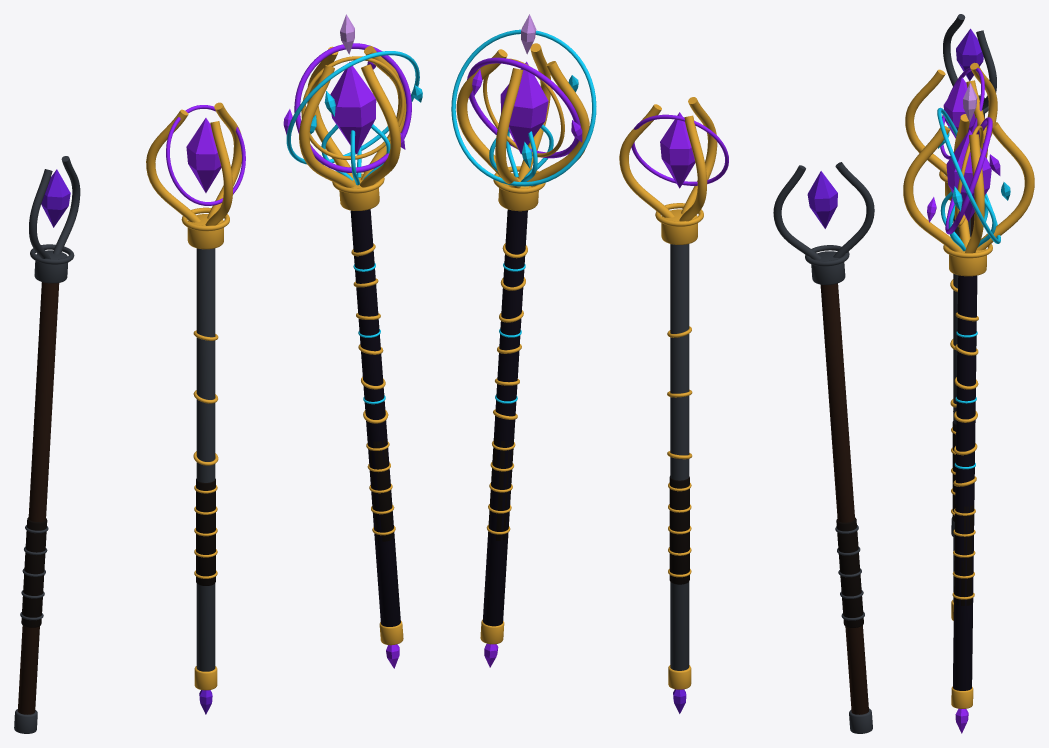
The model's file is hero_void_staff_evolution.obj.
The picture shows the model from 3 angles, left to right: view 1: azimuth 30°, elevation 25°; view 2: azimuth 150°, elevation 25°; view 3: azimuth 270°, elevation 25°; orthographic projection. The views are drawn at different scales.
Parts seen in each view (by area): view 1: VoidStaff_Tier3_Shaft, VoidStaff_Tier2_Shaft, VoidStaff_Tier1_Shaft, VoidStaff_Tier3_CoreOuter, VoidStaff_Tier1_Grip, VoidStaff_Tier2_Grip, VoidStaff_Tier3_HaloA, VoidStaff_Tier3_Claw_3, VoidStaff_Tier2_Core, VoidStaff_Tier3_Claw_2, VoidStaff_Tier3_Grip, VoidStaff_Tier3_HaloB (+13 smaller); view 2: VoidStaff_Tier3_Shaft, VoidStaff_Tier2_Shaft, VoidStaff_Tier1_Shaft, VoidStaff_Tier3_HaloB, VoidStaff_Tier3_CoreOuter, VoidStaff_Tier1_Grip, VoidStaff_Tier2_Grip, VoidStaff_Tier2_Core, VoidStaff_Tier3_HaloA, VoidStaff_Tier3_Claw_2, VoidStaff_Tier3_Claw_1, VoidStaff_Tier3_Claw_0 (+13 smaller); view 3: VoidStaff_Tier3_Shaft, VoidStaff_Tier3_Claw_3, VoidStaff_Tier3_Claw_1, VoidStaff_Tier3_CoreOuter, VoidStaff_Tier3_Grip, VoidStaff_Tier3_Claw_0, VoidStaff_Tier2_Claw_2, VoidStaff_Tier3_HaloB, VoidStaff_Tier3_HaloA, VoidStaff_Tier1_Core, VoidStaff_Tier2_Shaft, VoidStaff_Tier2_Core (+13 smaller).
Boxes of the visible parts, left/top/right/bottom form: VoidStaff_Tier3_Shaft: left=350, top=209, right=400, bottom=626; VoidStaff_Tier2_Shaft: left=196, top=248, right=215, bottom=671; VoidStaff_Tier1_Shaft: left=17, top=282, right=59, bottom=714; VoidStaff_Tier3_CoreOuter: left=330, top=62, right=376, bottom=154; VoidStaff_Tier1_Grip: left=21, top=517, right=47, bottom=627; VoidStaff_Tier2_Grip: left=196, top=478, right=215, bottom=585; VoidStaff_Tier3_HaloA: left=294, top=43, right=411, bottom=172; VoidStaff_Tier3_Claw_3: left=359, top=64, right=400, bottom=187; VoidStaff_Tier2_Core: left=186, top=118, right=221, bottom=192; VoidStaff_Tier3_Claw_2: left=299, top=65, right=355, bottom=187; VoidStaff_Tier3_Grip: left=368, top=439, right=394, bottom=541; VoidStaff_Tier3_HaloB: left=286, top=51, right=419, bottom=164; VoidStaff_Tier3_Shaft: left=482, top=209, right=527, bottom=626; VoidStaff_Tier2_Shaft: left=670, top=244, right=689, bottom=670; VoidStaff_Tier1_Shaft: left=820, top=283, right=868, bottom=714; VoidStaff_Tier3_HaloB: left=451, top=29, right=596, bottom=186; VoidStaff_Tier3_CoreOuter: left=500, top=61, right=548, bottom=154; VoidStaff_Tier1_Grip: left=836, top=517, right=863, bottom=627; VoidStaff_Tier2_Grip: left=669, top=476, right=689, bottom=584; VoidStaff_Tier2_Core: left=660, top=112, right=695, bottom=188; VoidStaff_Tier3_HaloA: left=467, top=57, right=580, bottom=158; VoidStaff_Tier3_Claw_2: left=527, top=61, right=589, bottom=186; VoidStaff_Tier3_Claw_1: left=495, top=68, right=523, bottom=188; VoidStaff_Tier3_Claw_0: left=456, top=49, right=507, bottom=177; VoidStaff_Tier3_Shaft: left=953, top=275, right=977, bottom=690; VoidStaff_Tier3_Claw_3: left=903, top=125, right=962, bottom=251; VoidStaff_Tier3_Claw_1: left=976, top=122, right=1034, bottom=250; VoidStaff_Tier3_CoreOuter: left=946, top=130, right=991, bottom=221; VoidStaff_Tier3_Grip: left=954, top=504, right=974, bottom=605; VoidStaff_Tier3_Claw_0: left=965, top=134, right=984, bottom=253; VoidStaff_Tier2_Claw_2: left=905, top=69, right=947, bottom=175; VoidStaff_Tier3_HaloB: left=937, top=107, right=1000, bottom=243; VoidStaff_Tier3_HaloA: left=945, top=117, right=992, bottom=234; VoidStaff_Tier1_Core: left=956, top=28, right=983, bottom=81; VoidStaff_Tier2_Shaft: left=953, top=215, right=970, bottom=602; VoidStaff_Tier2_Core: left=943, top=77, right=975, bottom=138.
Bounding box in the file's own units: 1.4 × 2.17 × 0.4105.
